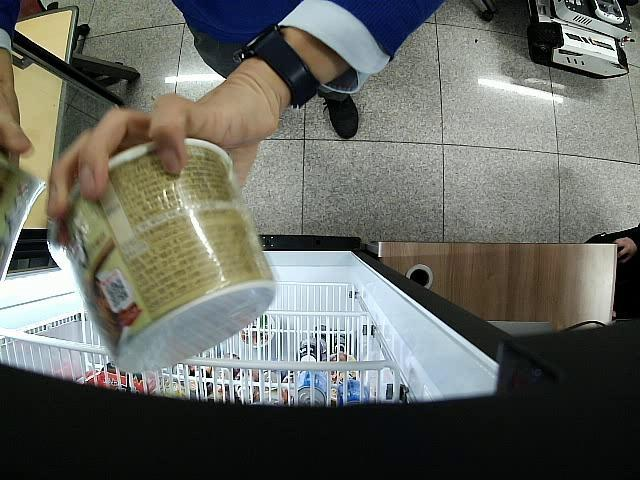03_chapagetti_L: (49, 138, 276, 373), (1, 163, 44, 278)
